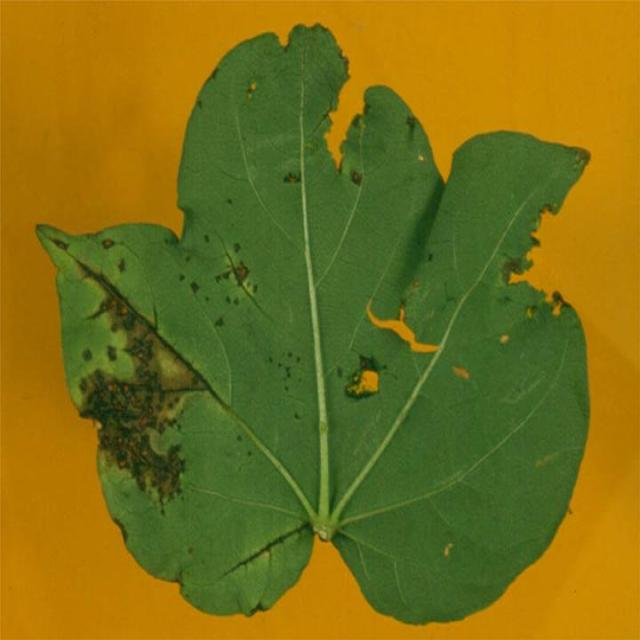Bacterial Blight: (79, 279, 201, 507)
